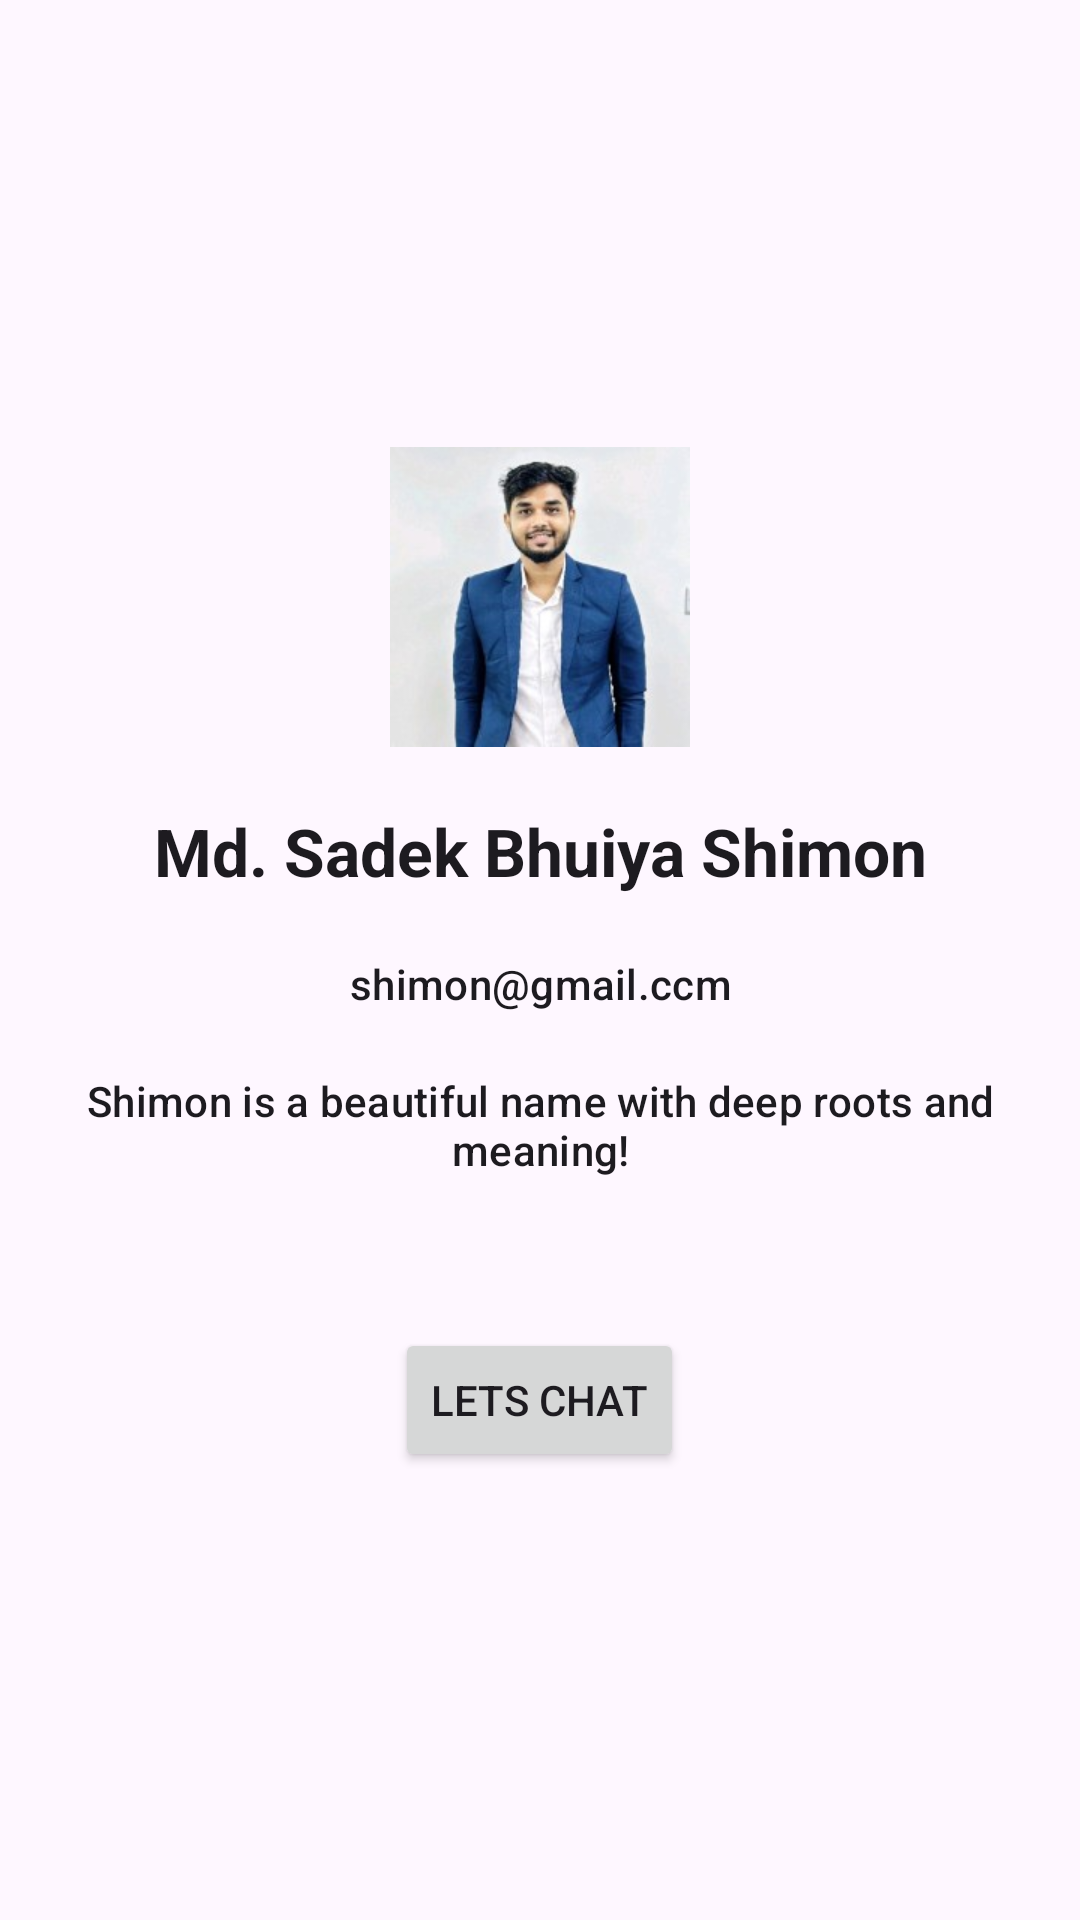

Icon click points for this 1080px x 1920px phone screenshot, format point (x, y):
profile: point (540, 597)
